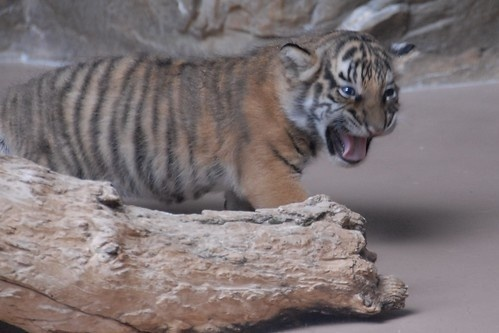tigre: (1, 22, 421, 215)
